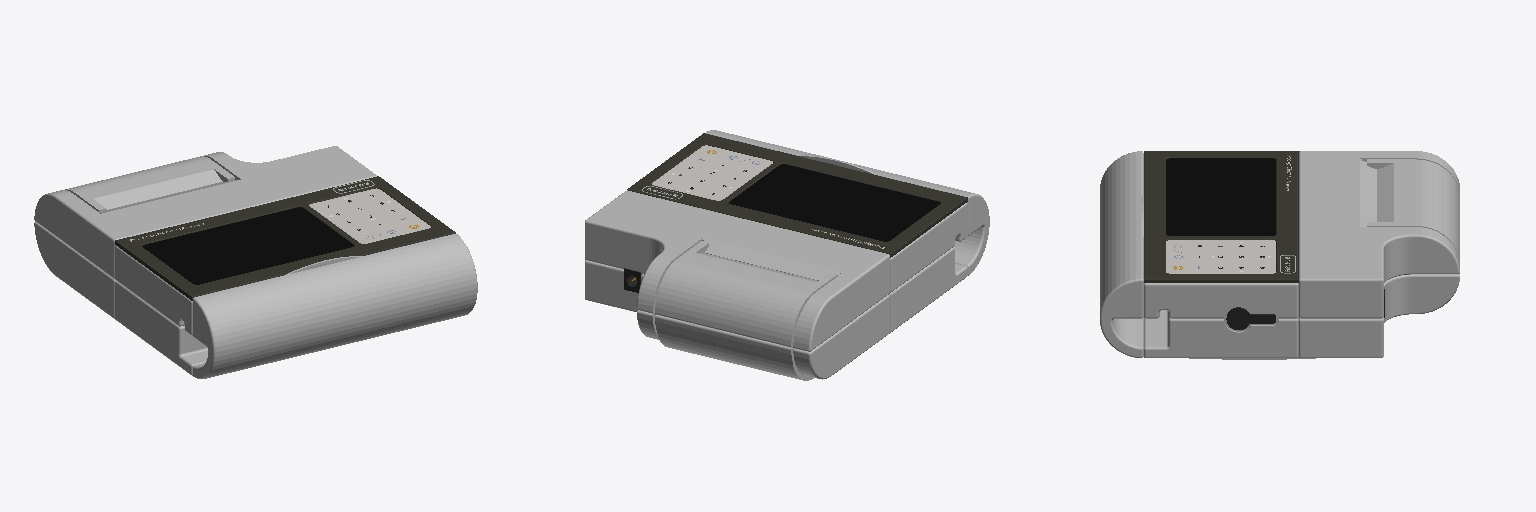
The picture shows the model from 3 angles: view 1: azimuth 30°, elevation 25°; view 2: azimuth 150°, elevation 25°; view 3: azimuth 270°, elevation 25°; orthographic projection.
Parts seen in each view (by area): view 1: arkray_PocketChem_UA_PU_4010ul_Base, arkray_PocketChem_UA_PU_4010_Glass, arkray_PocketChem_UA_PU_4010_Panel, arkray_PocketChem_UA_PU_4010_Controls; view 2: arkray_PocketChem_UA_PU_4010ul_Base, arkray_PocketChem_UA_PU_4010_Glass, arkray_PocketChem_UA_PU_4010_Panel, arkray_PocketChem_UA_PU_4010_Controls; view 3: arkray_PocketChem_UA_PU_4010ul_Base, arkray_PocketChem_UA_PU_4010_Glass, arkray_PocketChem_UA_PU_4010_Panel, arkray_PocketChem_UA_PU_4010_Controls, arkray_PocketChem_UA_PU_4010_Plastic.
Boxes of the visible parts, x1=… form: arkray_PocketChem_UA_PU_4010ul_Base: x1=34, y1=146, x2=477, y2=378; arkray_PocketChem_UA_PU_4010_Glass: x1=142, y1=207, x2=353, y2=284; arkray_PocketChem_UA_PU_4010_Panel: x1=115, y1=176, x2=455, y2=300; arkray_PocketChem_UA_PU_4010_Controls: x1=309, y1=188, x2=430, y2=243; arkray_PocketChem_UA_PU_4010ul_Base: x1=585, y1=130, x2=989, y2=380; arkray_PocketChem_UA_PU_4010_Glass: x1=729, y1=164, x2=940, y2=241; arkray_PocketChem_UA_PU_4010_Panel: x1=627, y1=133, x2=967, y2=257; arkray_PocketChem_UA_PU_4010_Controls: x1=652, y1=145, x2=772, y2=200; arkray_PocketChem_UA_PU_4010ul_Base: x1=1100, y1=151, x2=1459, y2=359; arkray_PocketChem_UA_PU_4010_Glass: x1=1166, y1=158, x2=1275, y2=235; arkray_PocketChem_UA_PU_4010_Panel: x1=1144, y1=151, x2=1298, y2=282; arkray_PocketChem_UA_PU_4010_Controls: x1=1166, y1=240, x2=1275, y2=273; arkray_PocketChem_UA_PU_4010_Plastic: x1=1226, y1=289, x2=1384, y2=329.
Size of the model in its own units: 10.17 by 3.33 by 12.
Materials: 7 (2 with a texture image).